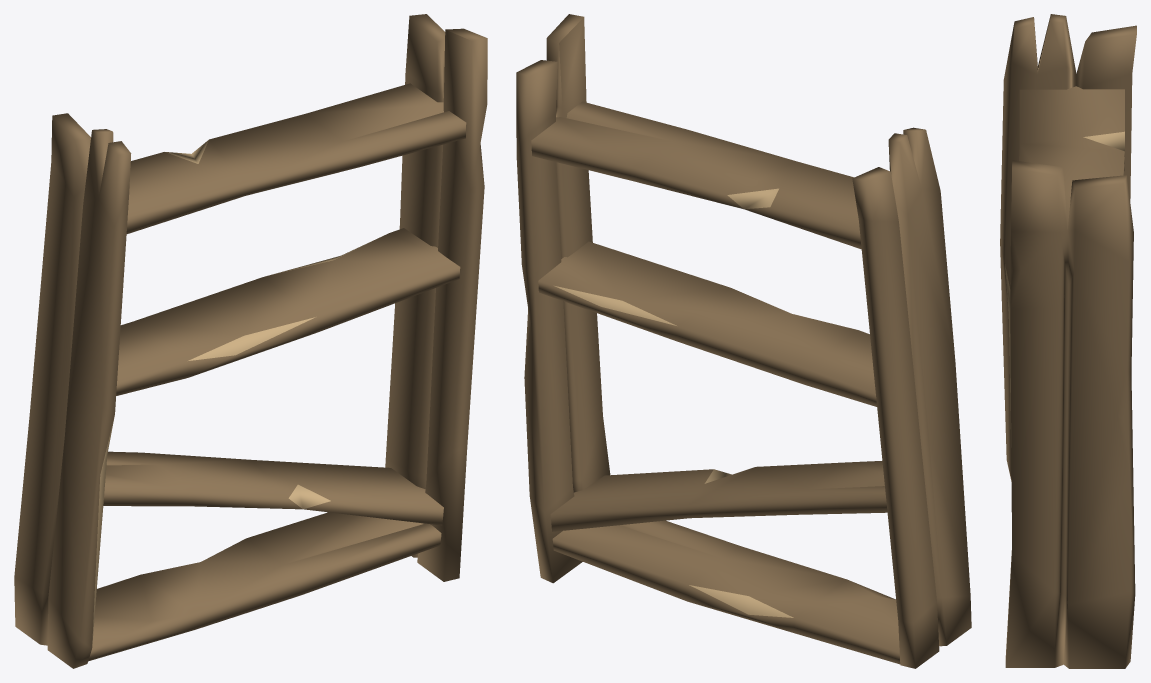
The model's file is rpgpp_av_shelf_wood_02.gltf.
3 views of the same model, side by side, from view 1: azimuth 30°, elevation 25°; view 2: azimuth 150°, elevation 25°; view 3: azimuth 270°, elevation 25° (orthographic). The views are drawn at different scales.
Visible parts, largest first — view 1: rpgpp_av_shelf_wood_02; view 2: rpgpp_av_shelf_wood_02; view 3: rpgpp_av_shelf_wood_02.
Boxes of the visible parts, left/top/right/bottom form: rpgpp_av_shelf_wood_02: left=14, top=14, right=487, bottom=668; rpgpp_av_shelf_wood_02: left=516, top=14, right=971, bottom=668; rpgpp_av_shelf_wood_02: left=1000, top=14, right=1136, bottom=668.
Bounding box in the file's own units: 0.0181 × 0.0221 × 0.00533.
Materials: 1 (1 with a texture image).
